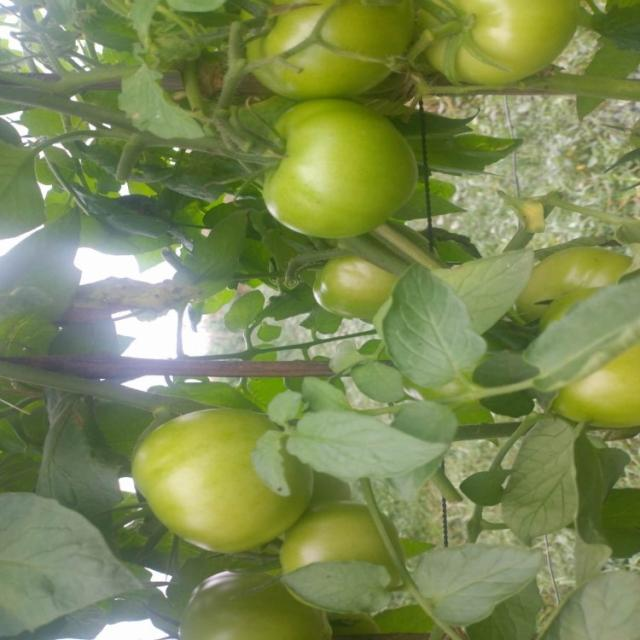tomato: (134, 403, 316, 561), (254, 101, 409, 245), (244, 1, 414, 96), (283, 500, 415, 622), (414, 1, 585, 92), (177, 568, 341, 640), (516, 239, 631, 325), (547, 336, 640, 441), (302, 244, 415, 316)
